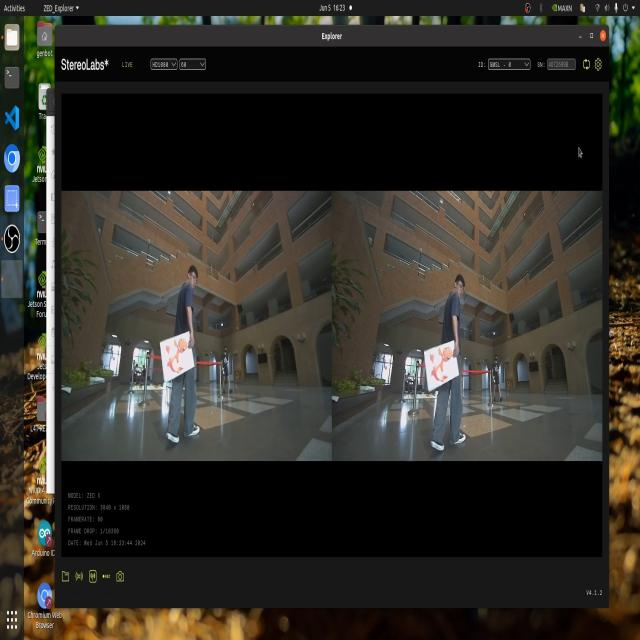red: (423, 340, 454, 385), (161, 336, 193, 372)
